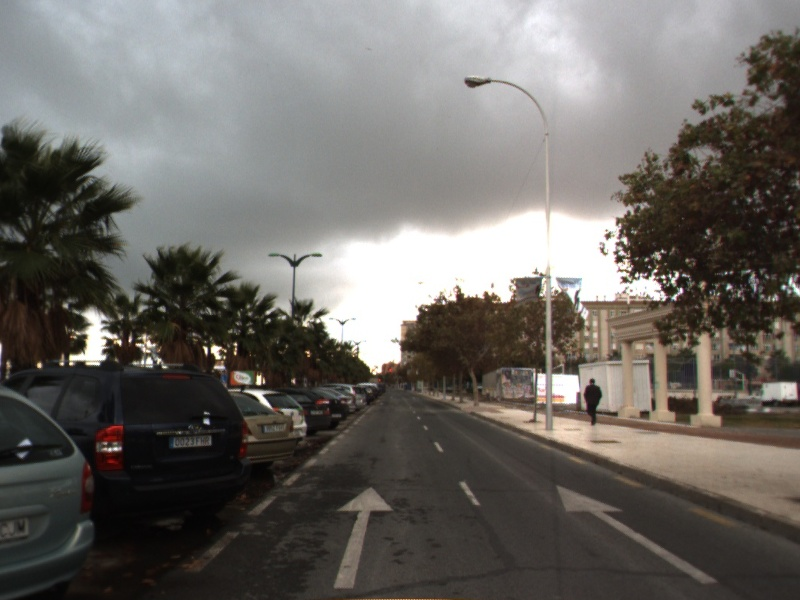STRAIGHT: (553, 482, 721, 586), (332, 485, 397, 591)
